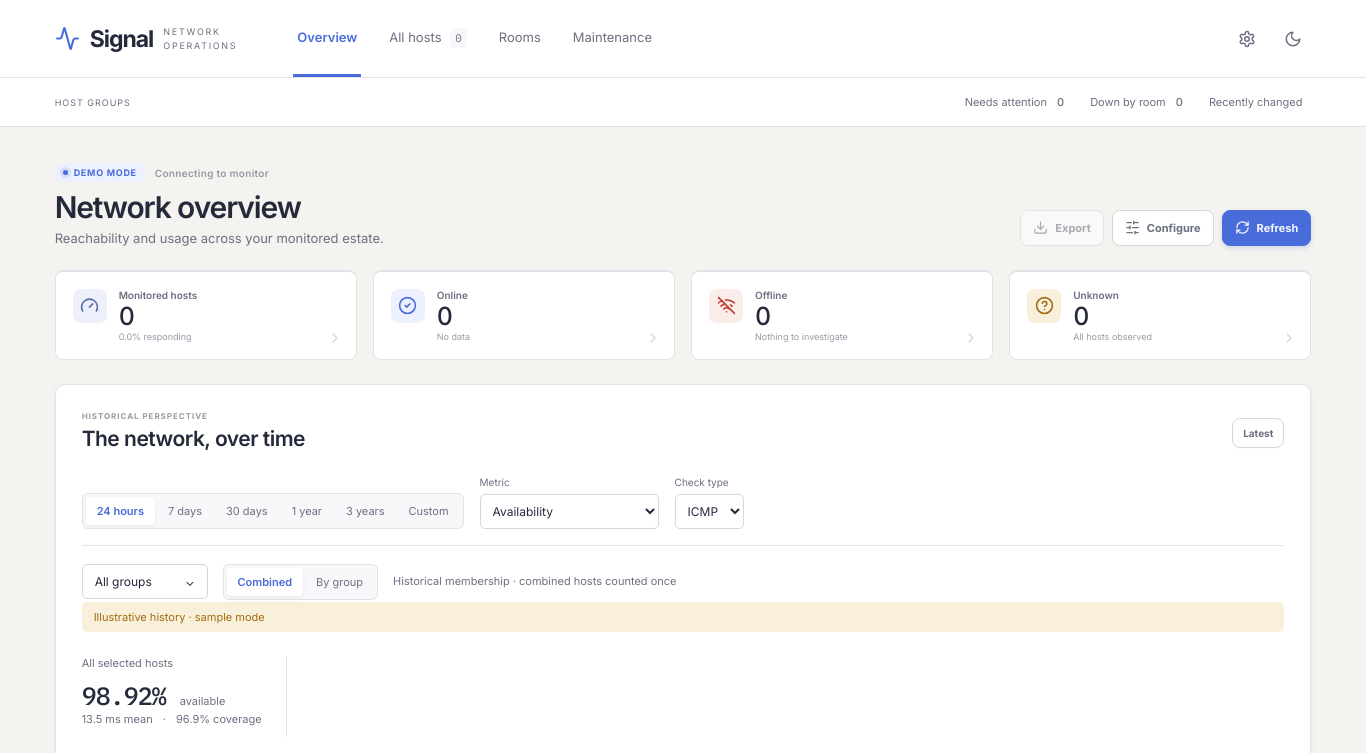
Scenario: ignores a late response from an aborted inventory request
What coordinates should you click on to do the following:
click the button "Refresh"
I would click on:
 (1266, 228)
Its box is [1222,210,1311,246].
(page scrolled)
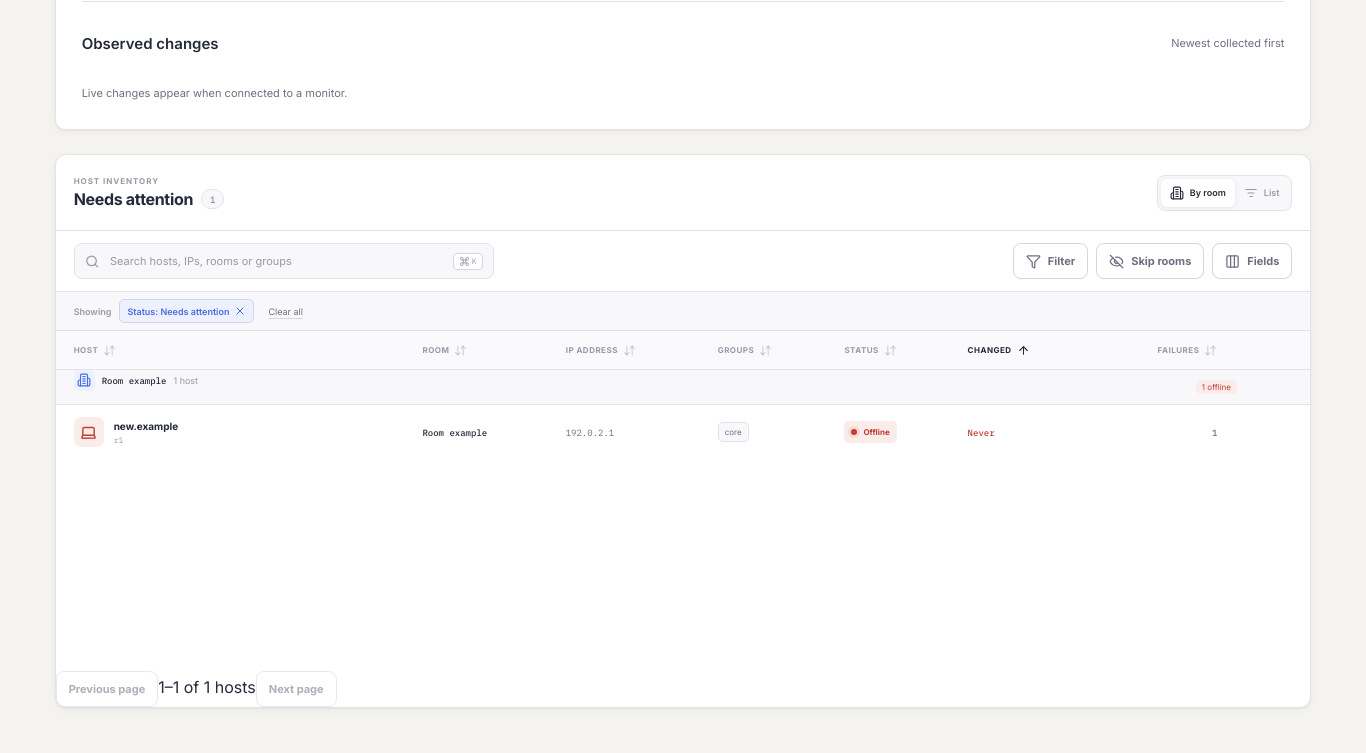
Now the text "new.example" is shown, box [114,420,178,432]
